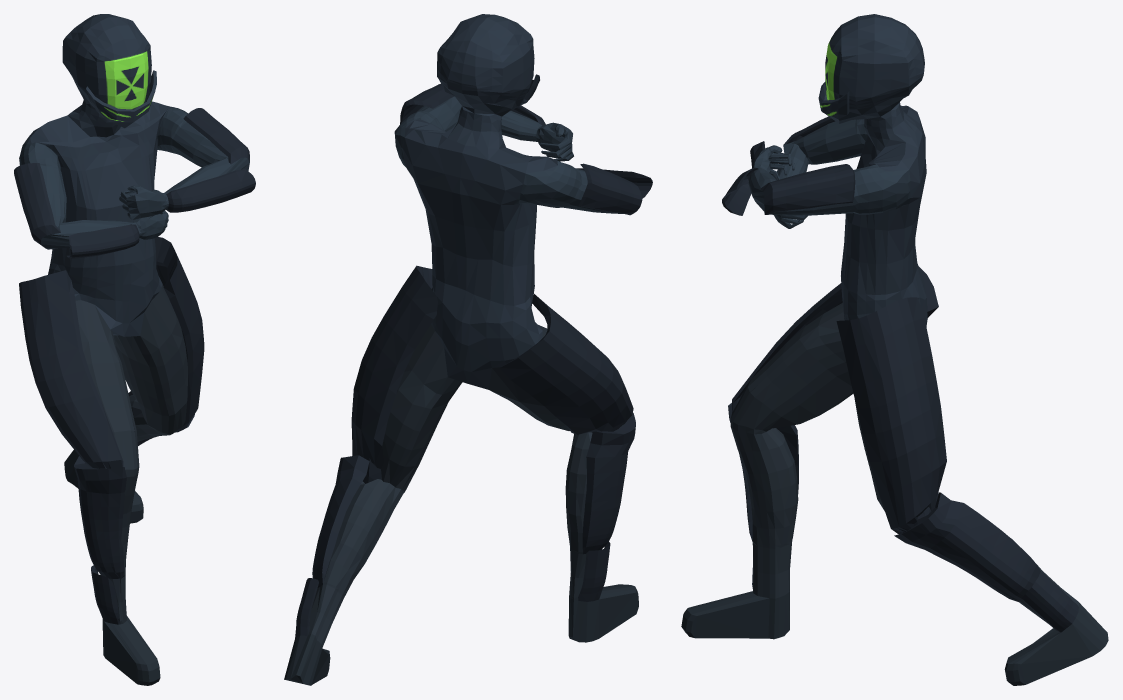
Rendered from Bastion_WR_000009.obj.
3 views of the same model, side by side, from view 1: azimuth 30°, elevation 25°; view 2: azimuth 150°, elevation 25°; view 3: azimuth 270°, elevation 25° (orthographic). The views are drawn at different scales.
Parts seen in each view (by area): view 1: Cube.002; view 2: Cube.002; view 3: Cube.002.
Boxes of the visible parts, x1,y1,x2,y2 form: Cube.002: [14, 14, 255, 685]; Cube.002: [284, 14, 652, 685]; Cube.002: [681, 14, 1108, 685].
Bounding box in the file's own units: 1.38 × 3.59 × 2.17.
